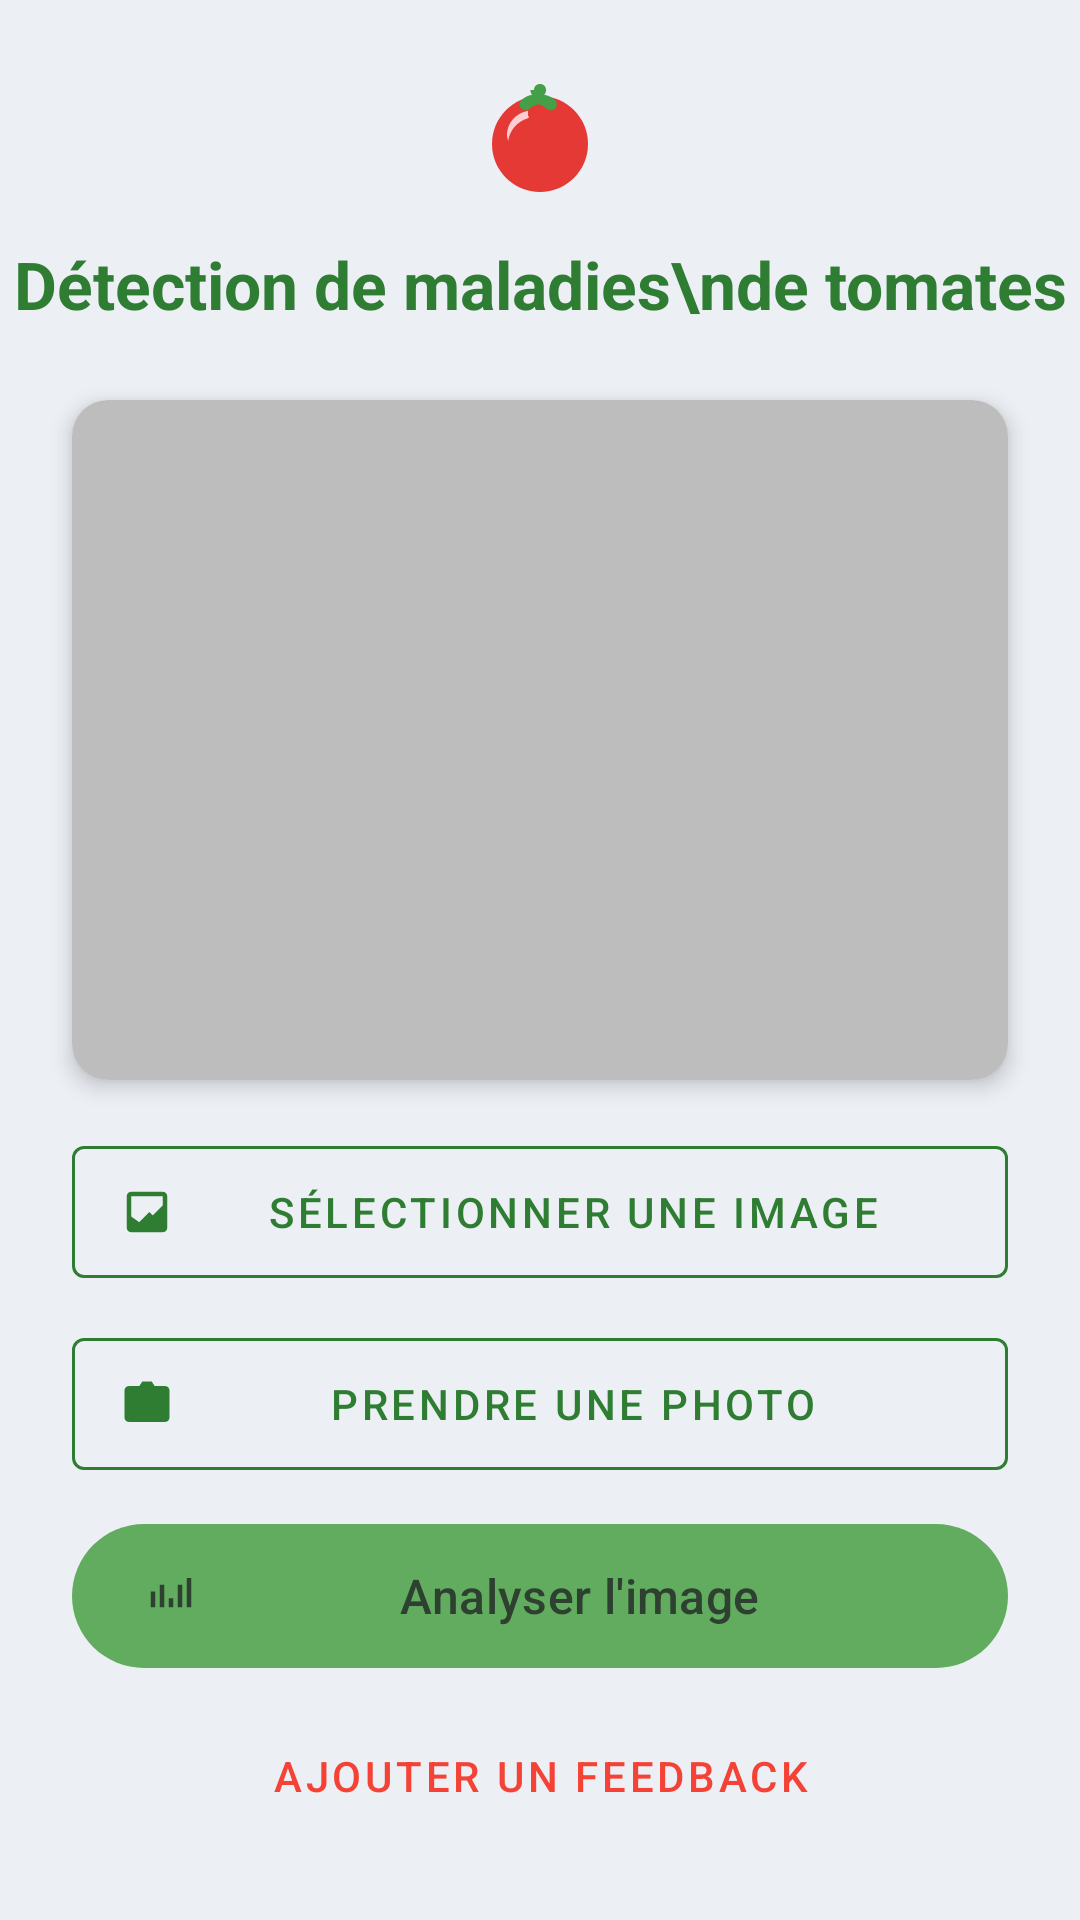

Where to tap for icons on this 1080px x 1920px app screen, as (x,y):
tomato: (540,138)
